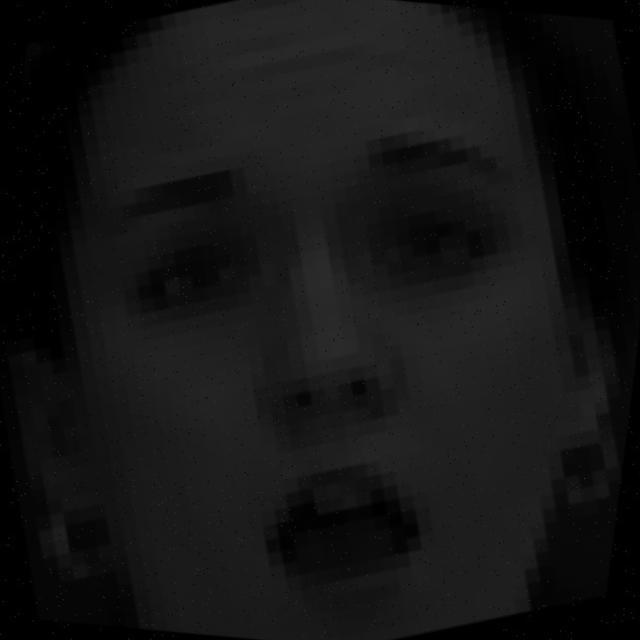Surprised: (99, 90, 573, 640)
